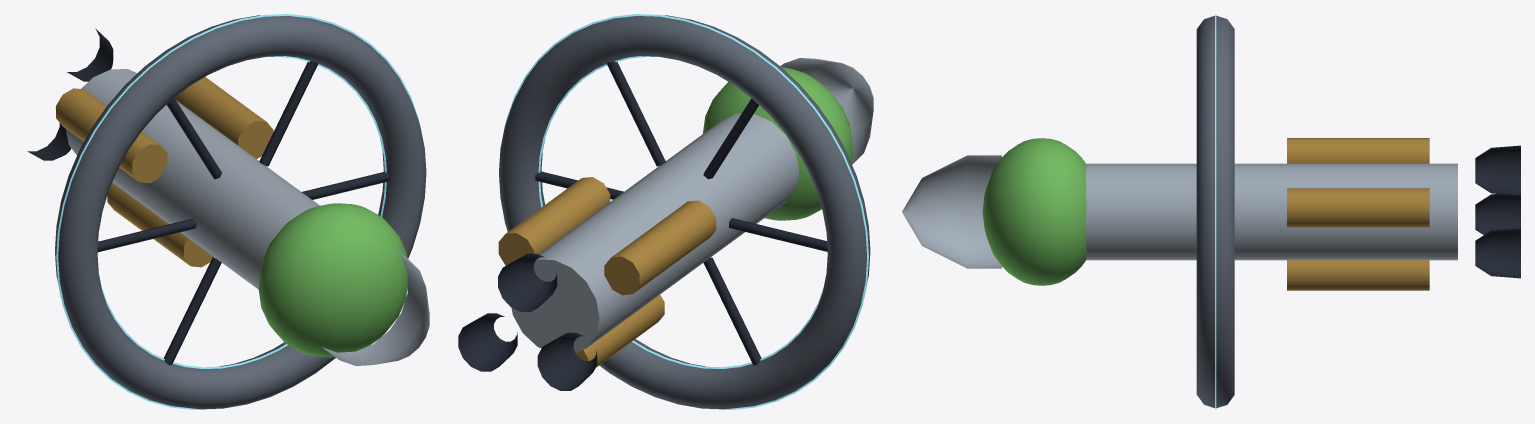
Rendered from colonyShip.glb.
3 renders of one model, left to right at view 1: azimuth 30°, elevation 25°; view 2: azimuth 150°, elevation 25°; view 3: azimuth 270°, elevation 25°, orthographic. The views are drawn at different scales.
Parts seen in each view (by area): view 1: colonyShip; view 2: colonyShip; view 3: colonyShip.
Part boxes in pixels (x1,y1,x2,y2): colonyShip: (27,14,429,409); colonyShip: (458,14,873,409); colonyShip: (902,14,1520,409).
Size of the model in its own units: 1.39 by 1.39 by 2.17.
